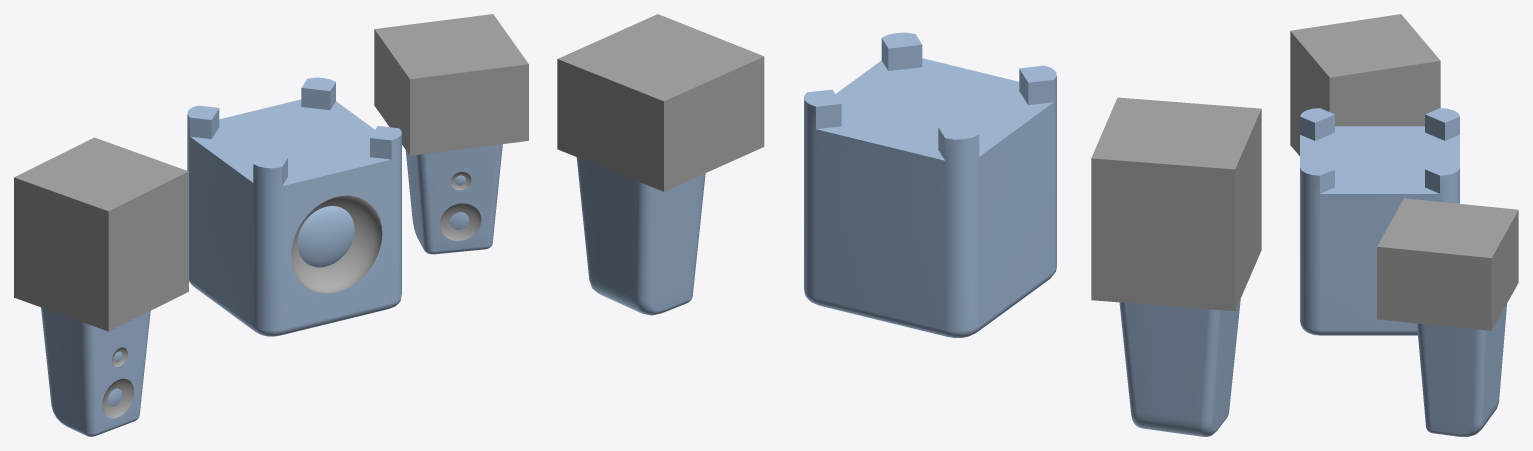
File: speaker2.mb.fbx
3 views of the same model, side by side, from view 1: azimuth 30°, elevation 25°; view 2: azimuth 150°, elevation 25°; view 3: azimuth 270°, elevation 25° (orthographic). The views are drawn at different scales.
Parts seen in each view (by area): view 1: pCube3, polySurface1, pasted__polySurface1, pasted__polySurface2, polySurface2; view 2: pCube3, polySurface1, pasted__polySurface1, polySurface2, pasted__polySurface2; view 3: pCube3, pasted__polySurface1, polySurface1, polySurface2.
Part boxes in pixels (x1=…): pCube3: x1=187, y1=77, x2=401, y2=336; polySurface1: x1=14, y1=137, x2=188, y2=331; pasted__polySurface1: x1=374, y1=14, x2=528, y2=155; pasted__polySurface2: x1=41, y1=307, x2=150, y2=436; polySurface2: x1=405, y1=144, x2=502, y2=254; pCube3: x1=804, y1=32, x2=1056, y2=338; polySurface1: x1=1091, y1=97, x2=1261, y2=311; pasted__polySurface1: x1=557, y1=14, x2=764, y2=191; polySurface2: x1=576, y1=157, x2=705, y2=315; pasted__polySurface2: x1=1119, y1=299, x2=1240, y2=436; pCube3: x1=1300, y1=108, x2=1459, y2=335; pasted__polySurface1: x1=1377, y1=198, x2=1518, y2=330; polySurface1: x1=1290, y1=14, x2=1440, y2=155; polySurface2: x1=1417, y1=304, x2=1506, y2=436.
Bounding box in the file's own units: 19.64 × 8.78 × 7.77.
